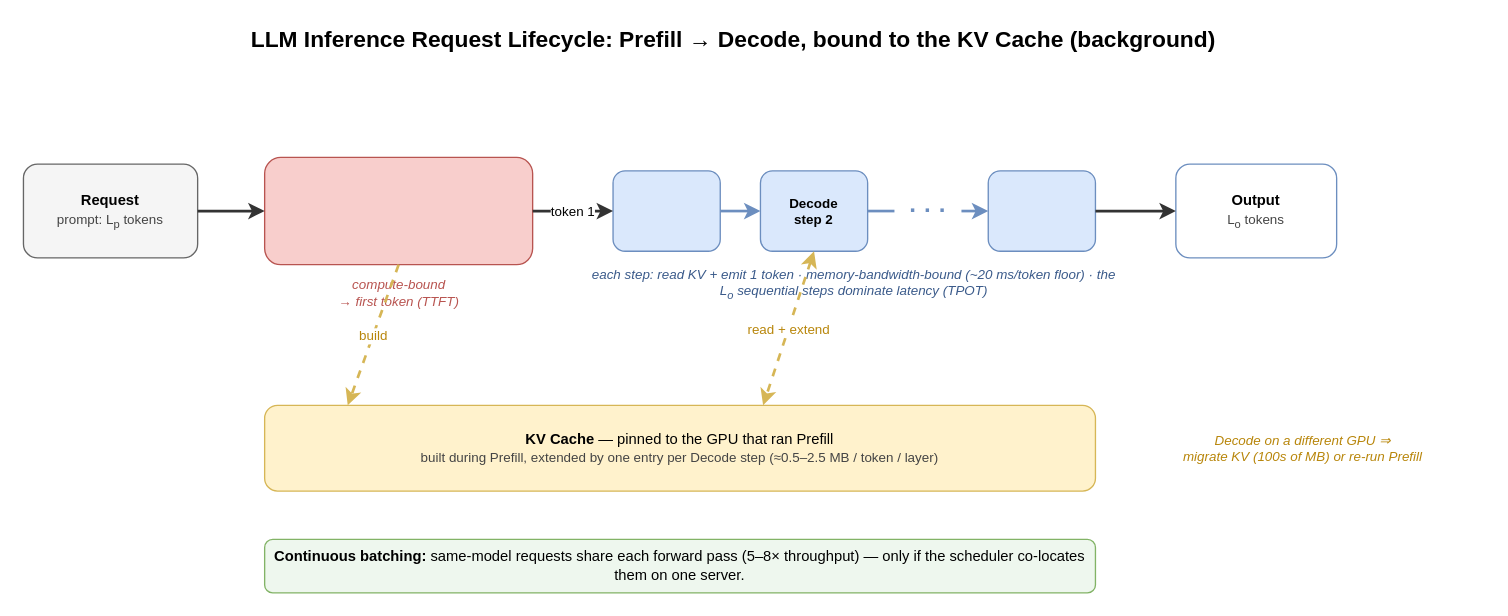
This 1508x616 diagram has some shape labels left out. Each missing label, with the box of its shape:
Decode step 1: (612, 170, 720, 251)
Decode step L o: (987, 170, 1095, 251)
Prefill (once) one parallel forward pass over all L p tokens: (263, 156, 533, 265)
